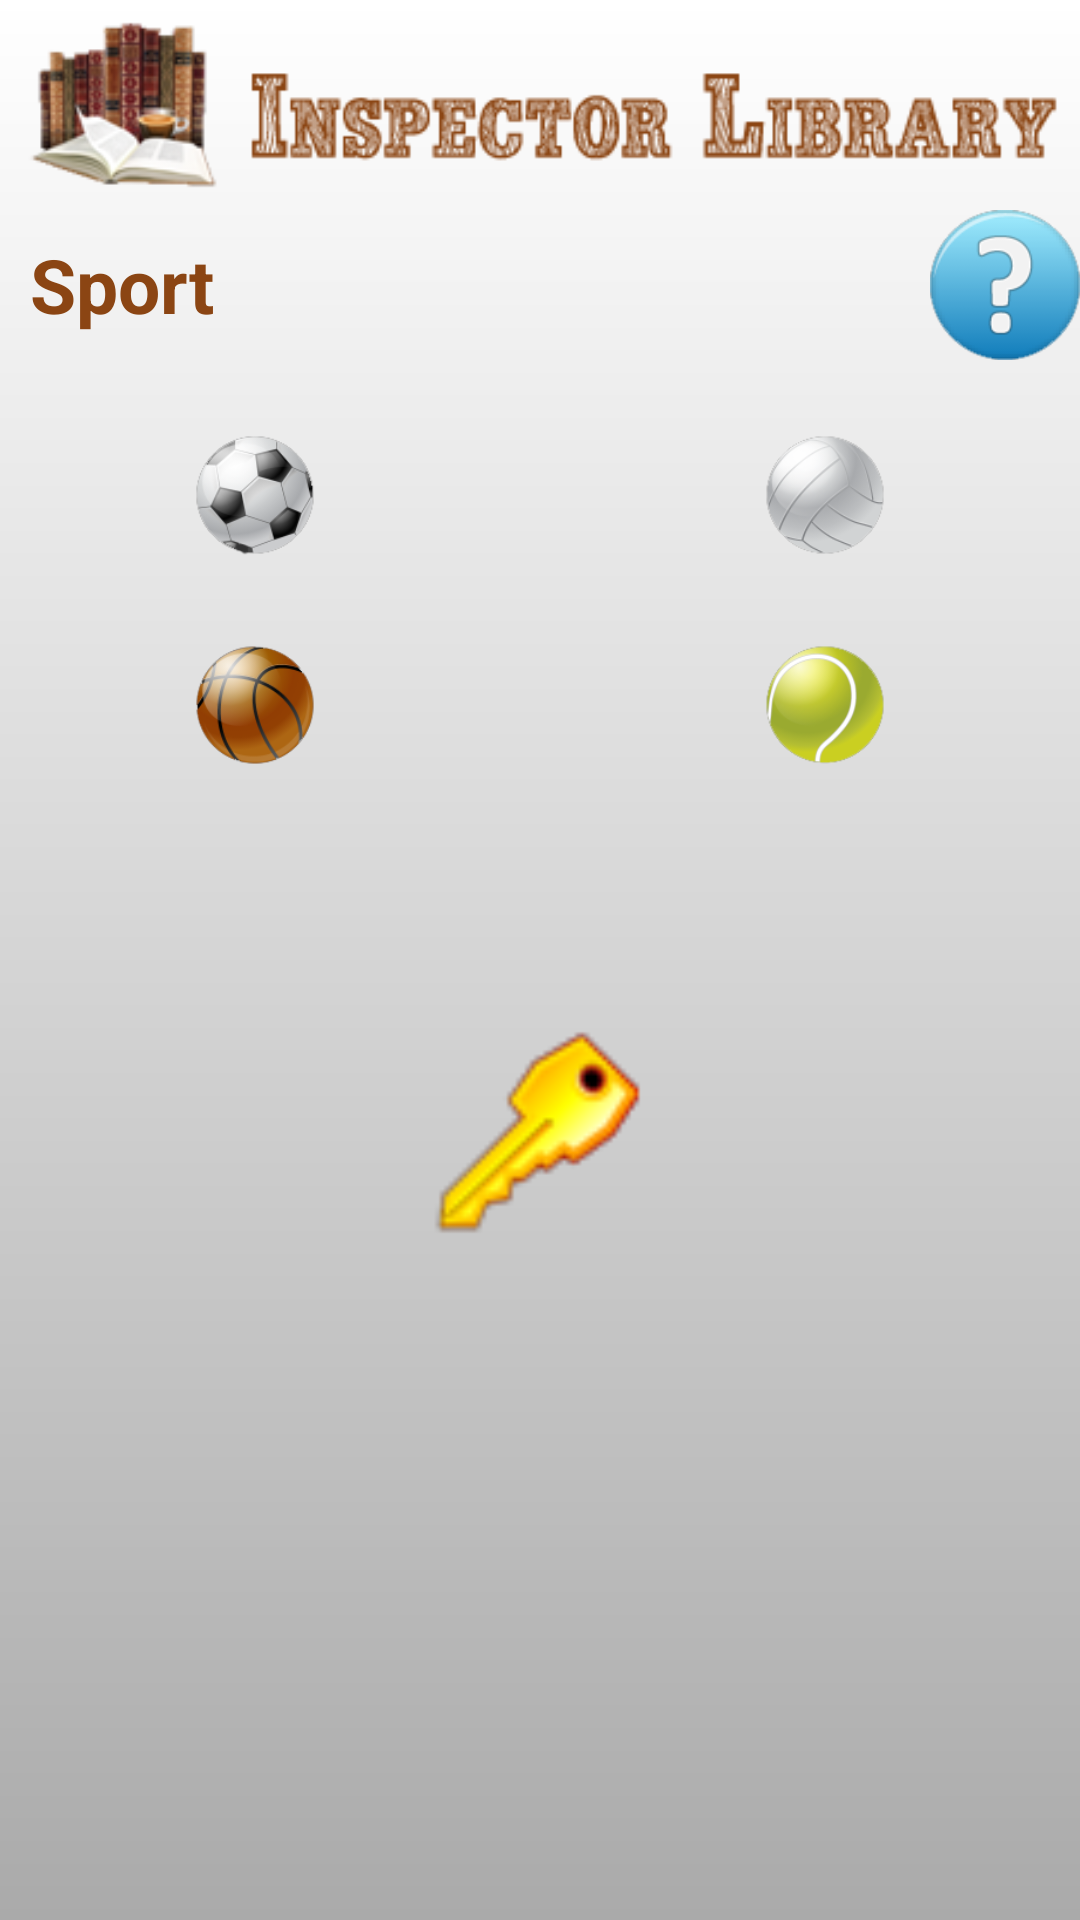

Icons on this 1080w x 1920h Android screen, each with its box as (x1, y1, x2, y2):
basketbalstatus: (196, 646, 314, 764)
help: (930, 210, 1080, 360)
keystatus: (436, 1032, 640, 1232)
tennisbalstatus: (766, 646, 884, 763)
voetbalstatus: (196, 436, 314, 554)
volleybalstatus: (766, 437, 884, 554)
